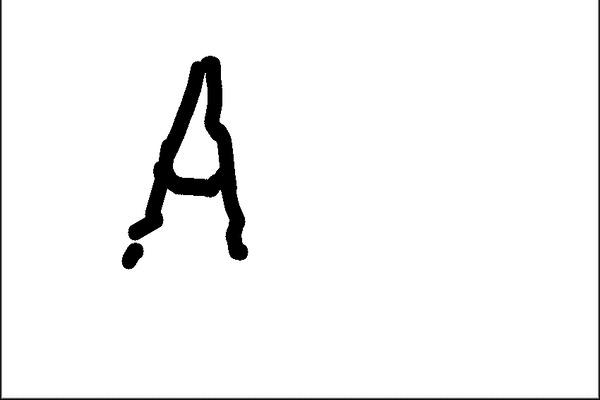A: (105, 53, 264, 272)
